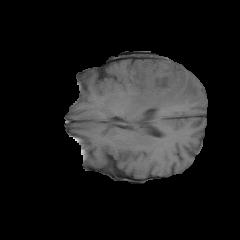glioma: (116, 59, 200, 110)
